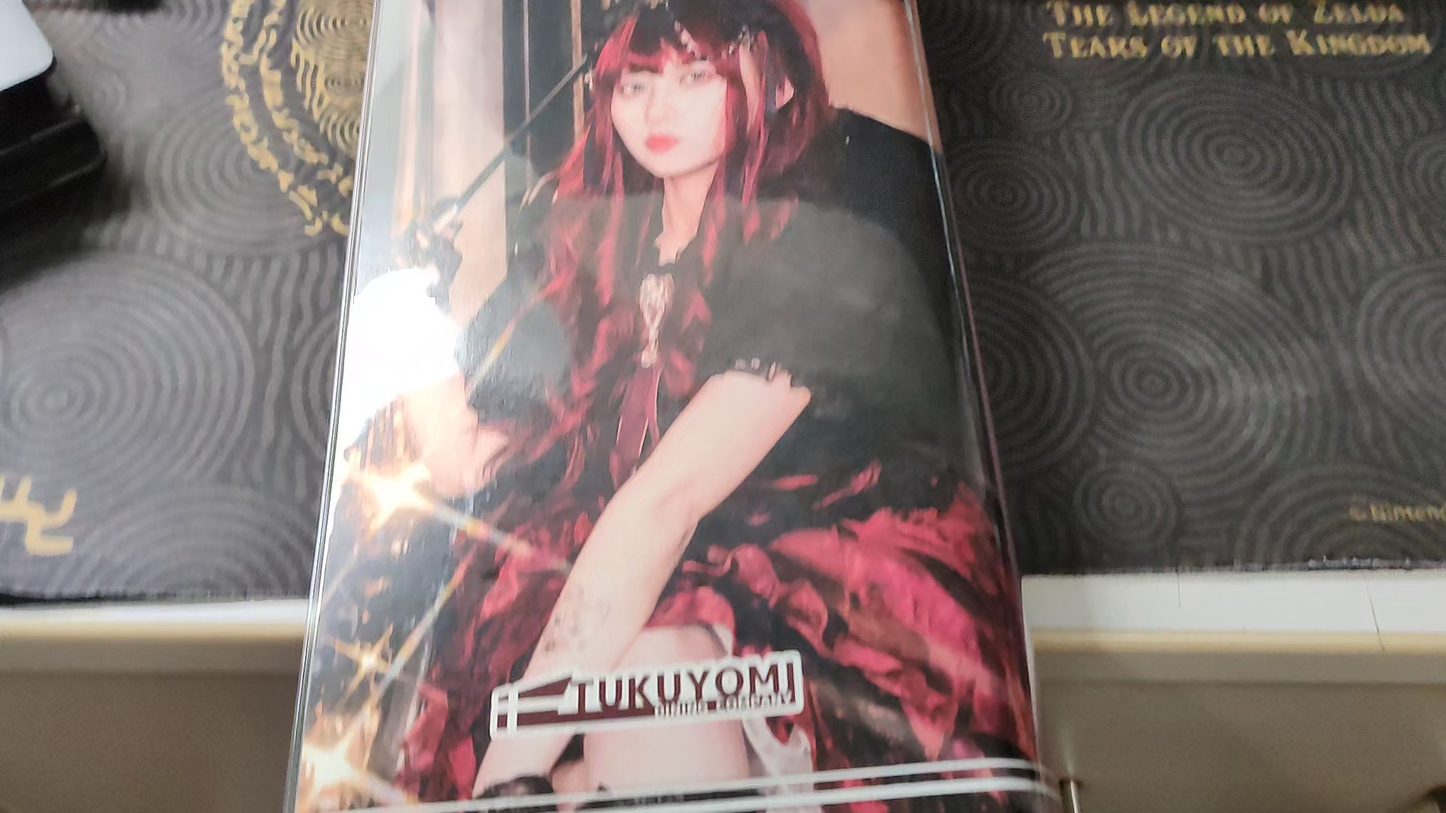Photo_book: (286, 0, 1065, 812)
